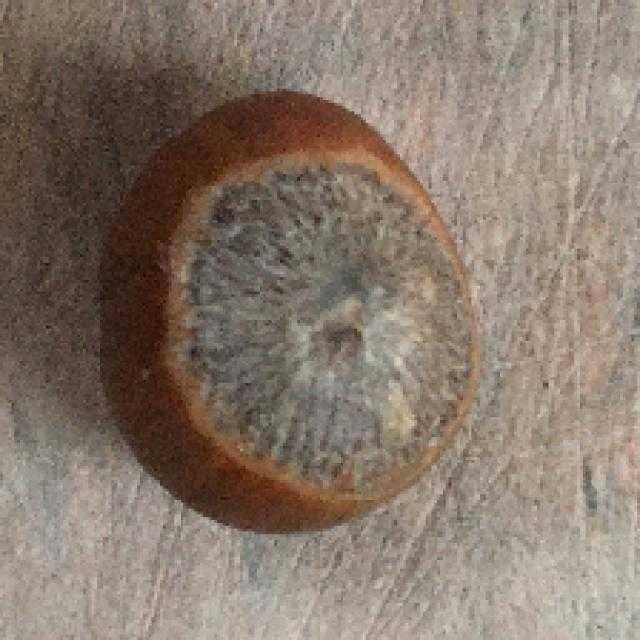damagedHazelnut: (97, 83, 483, 536)
